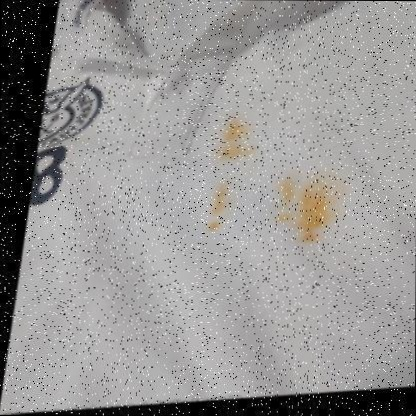kimchi: (270, 174, 341, 242), (217, 115, 255, 165), (199, 187, 235, 237)
